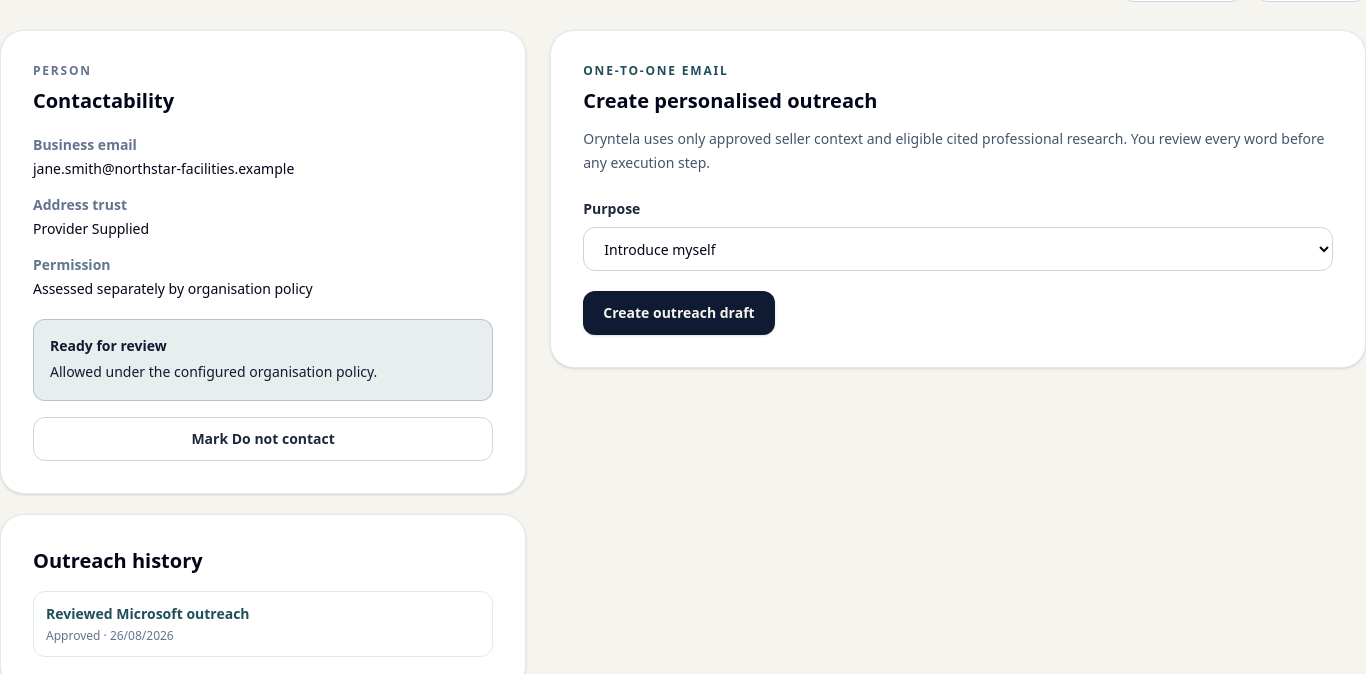
Test case: ContactOutreachWorkspace › prefers a connected Microsoft mailbox over the local simulator
This screenshot has width=1366, height=674.
Click the button "Reviewed Microsoft outreach".
click(148, 614)  # box [46,604,250,624]
(page scrolled)
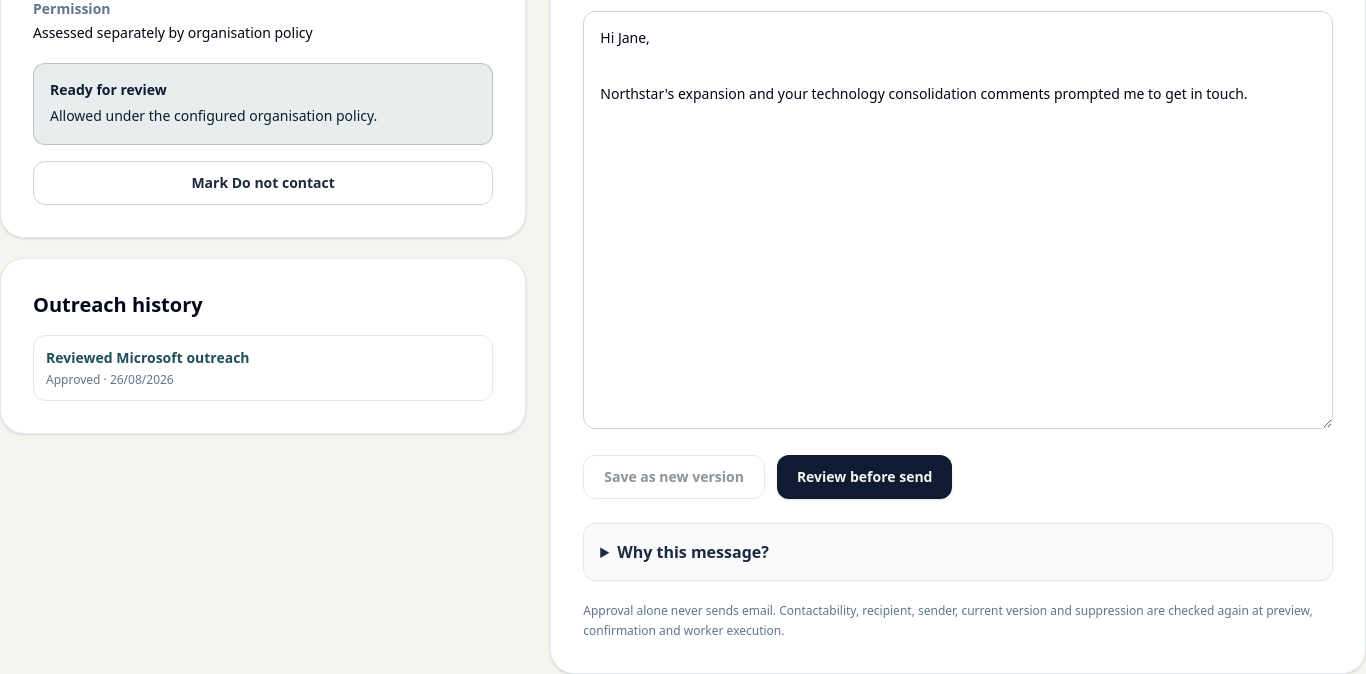
Click the button "Review before send".
click(865, 477)  # box [777,455,952,499]
(page scrolled)
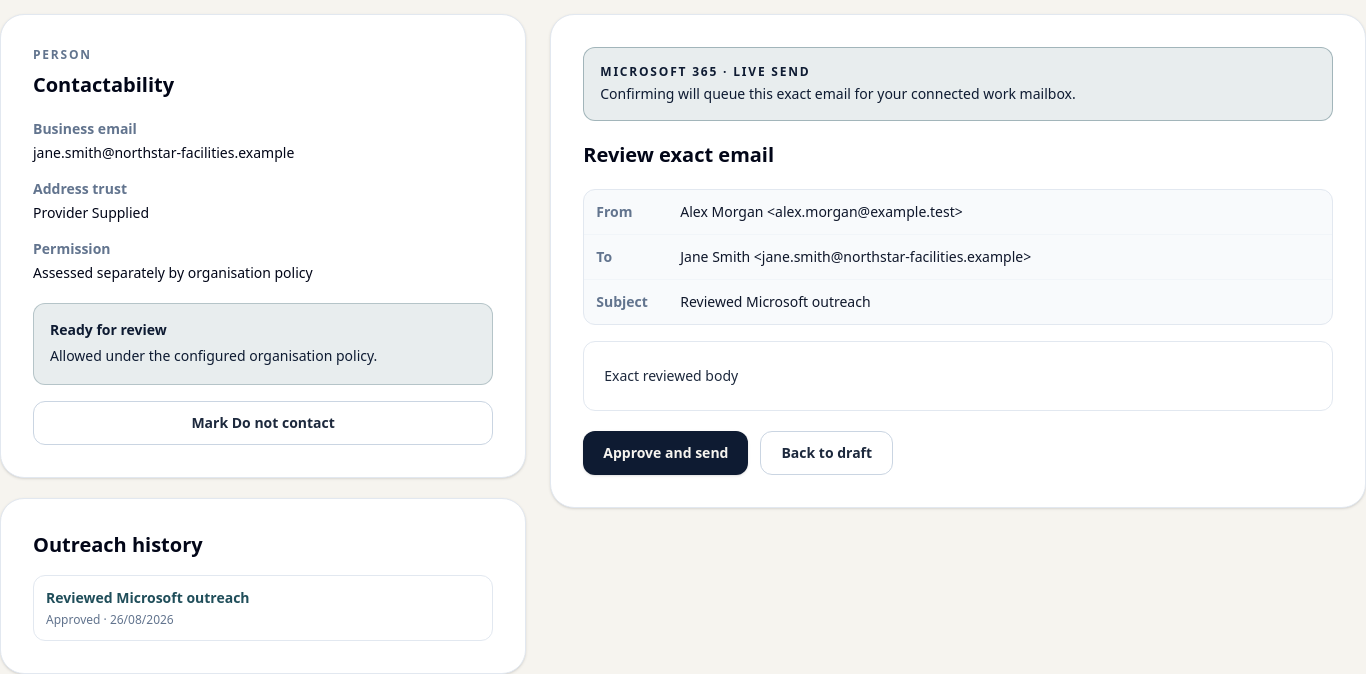
Expected: the button "Approve and send" is enabled, [583,431,748,475]
Expected: the text "Microsoft 365 · live send" is shown, [600,63,810,80]
Expected: the text "Alex Morgan <alex.morgan@example.test>" is shown, [680,202,963,221]
